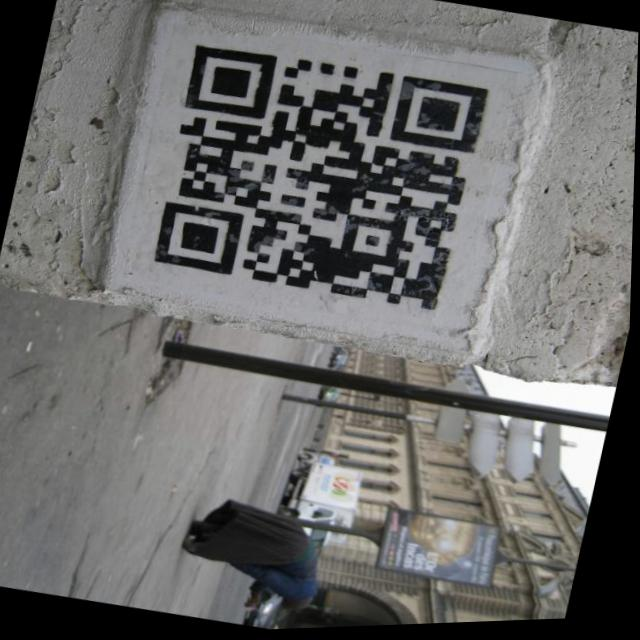qrcode: (149, 37, 491, 324)
